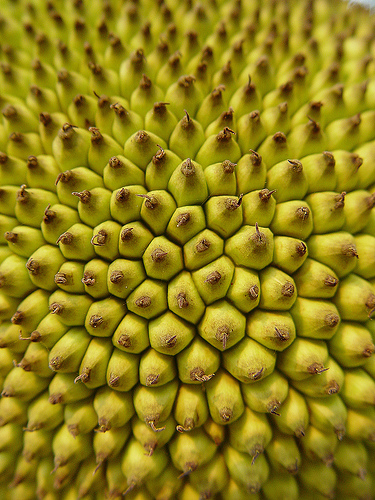jackfruit: (1, 0, 371, 498)
